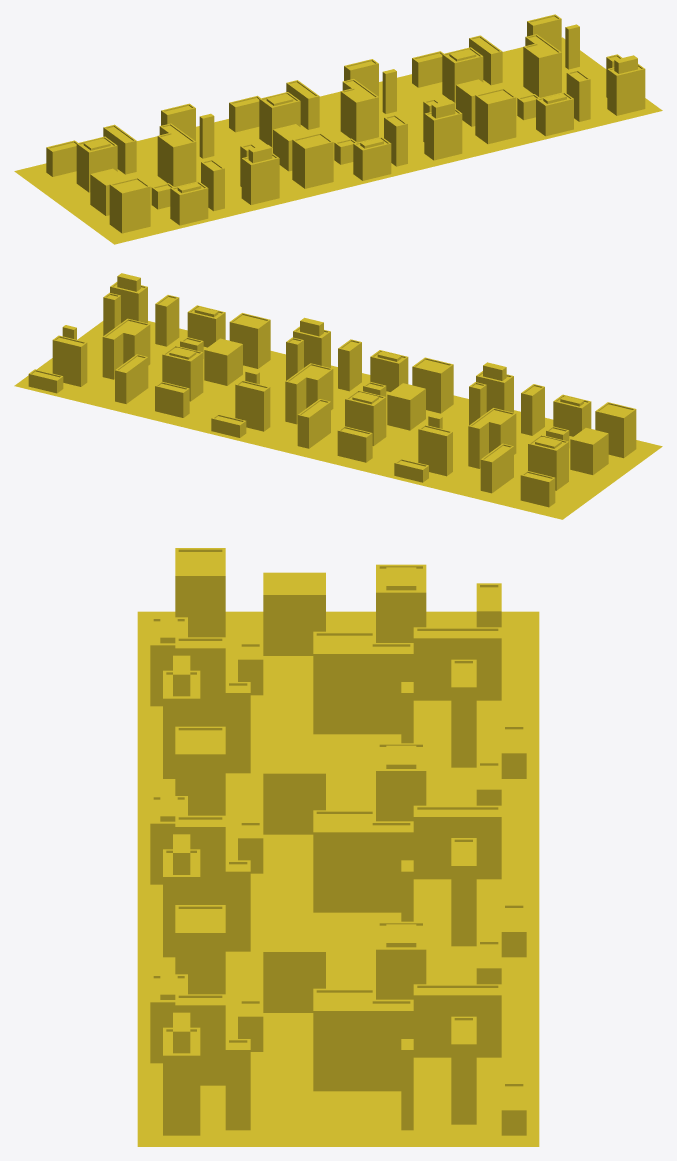
The model's file is BG_Buildings.fbx.
3 renders of one model, top to bottom at view 1: azimuth 30°, elevation 25°; view 2: azimuth 150°, elevation 25°; view 3: azimuth 270°, elevation 25°, orthographic. The views are drawn at different scales.
Visible parts, largest first — view 1: BG_Buildings; view 2: BG_Buildings; view 3: BG_Buildings.
Boxes of the visible parts, x1=… form: BG_Buildings: x1=14, y1=14, x2=662, y2=244; BG_Buildings: x1=14, y1=273, x2=662, y2=519; BG_Buildings: x1=137, y1=548, x2=539, y2=1146.
Size of the model in its own units: 16534 by 1435 by 5240.
